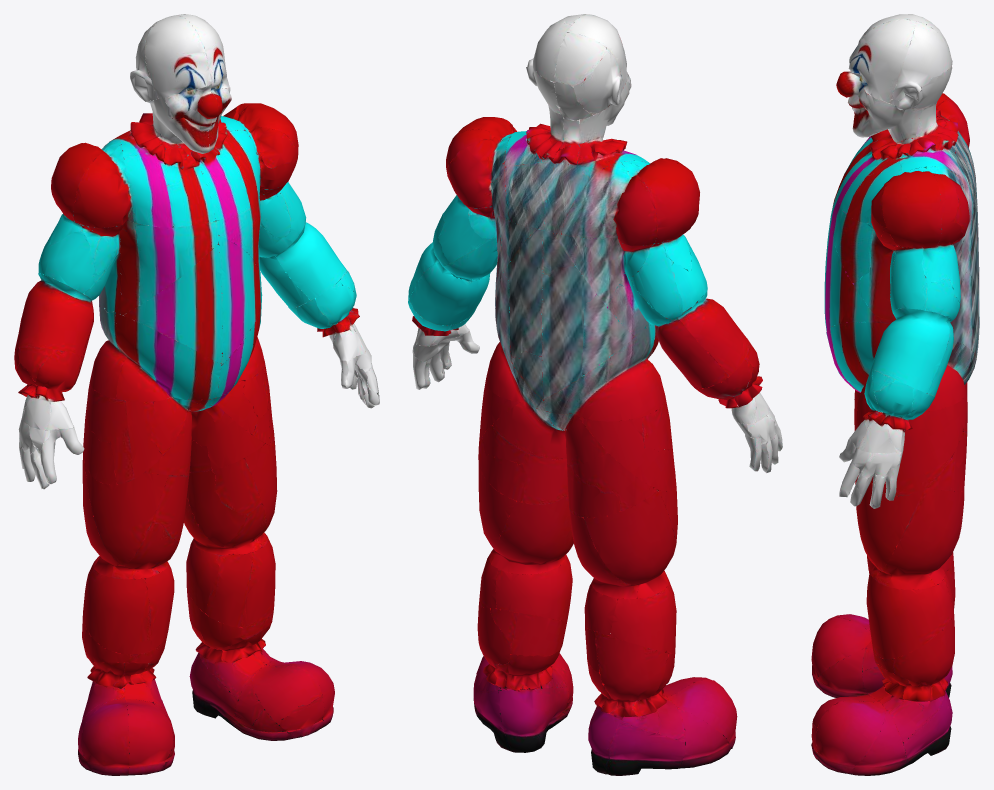
The model's file is 08_balloon_skin_clown.glb.
The picture shows the model from 3 angles, left to right: view 1: azimuth 30°, elevation 25°; view 2: azimuth 150°, elevation 25°; view 3: azimuth 270°, elevation 25°; orthographic projection. The views are drawn at different scales.
Parts seen in each view (by area): view 1: mesh_node; view 2: mesh_node; view 3: mesh_node.
Boxes of the visible parts, x1,y1,x2,y2 form: mesh_node: (14, 14, 379, 775); mesh_node: (408, 14, 782, 775); mesh_node: (811, 14, 979, 775).
Size of the model in its own units: 0.9657 by 1.9 by 0.4102.
Materials: 1 (1 with a texture image).
